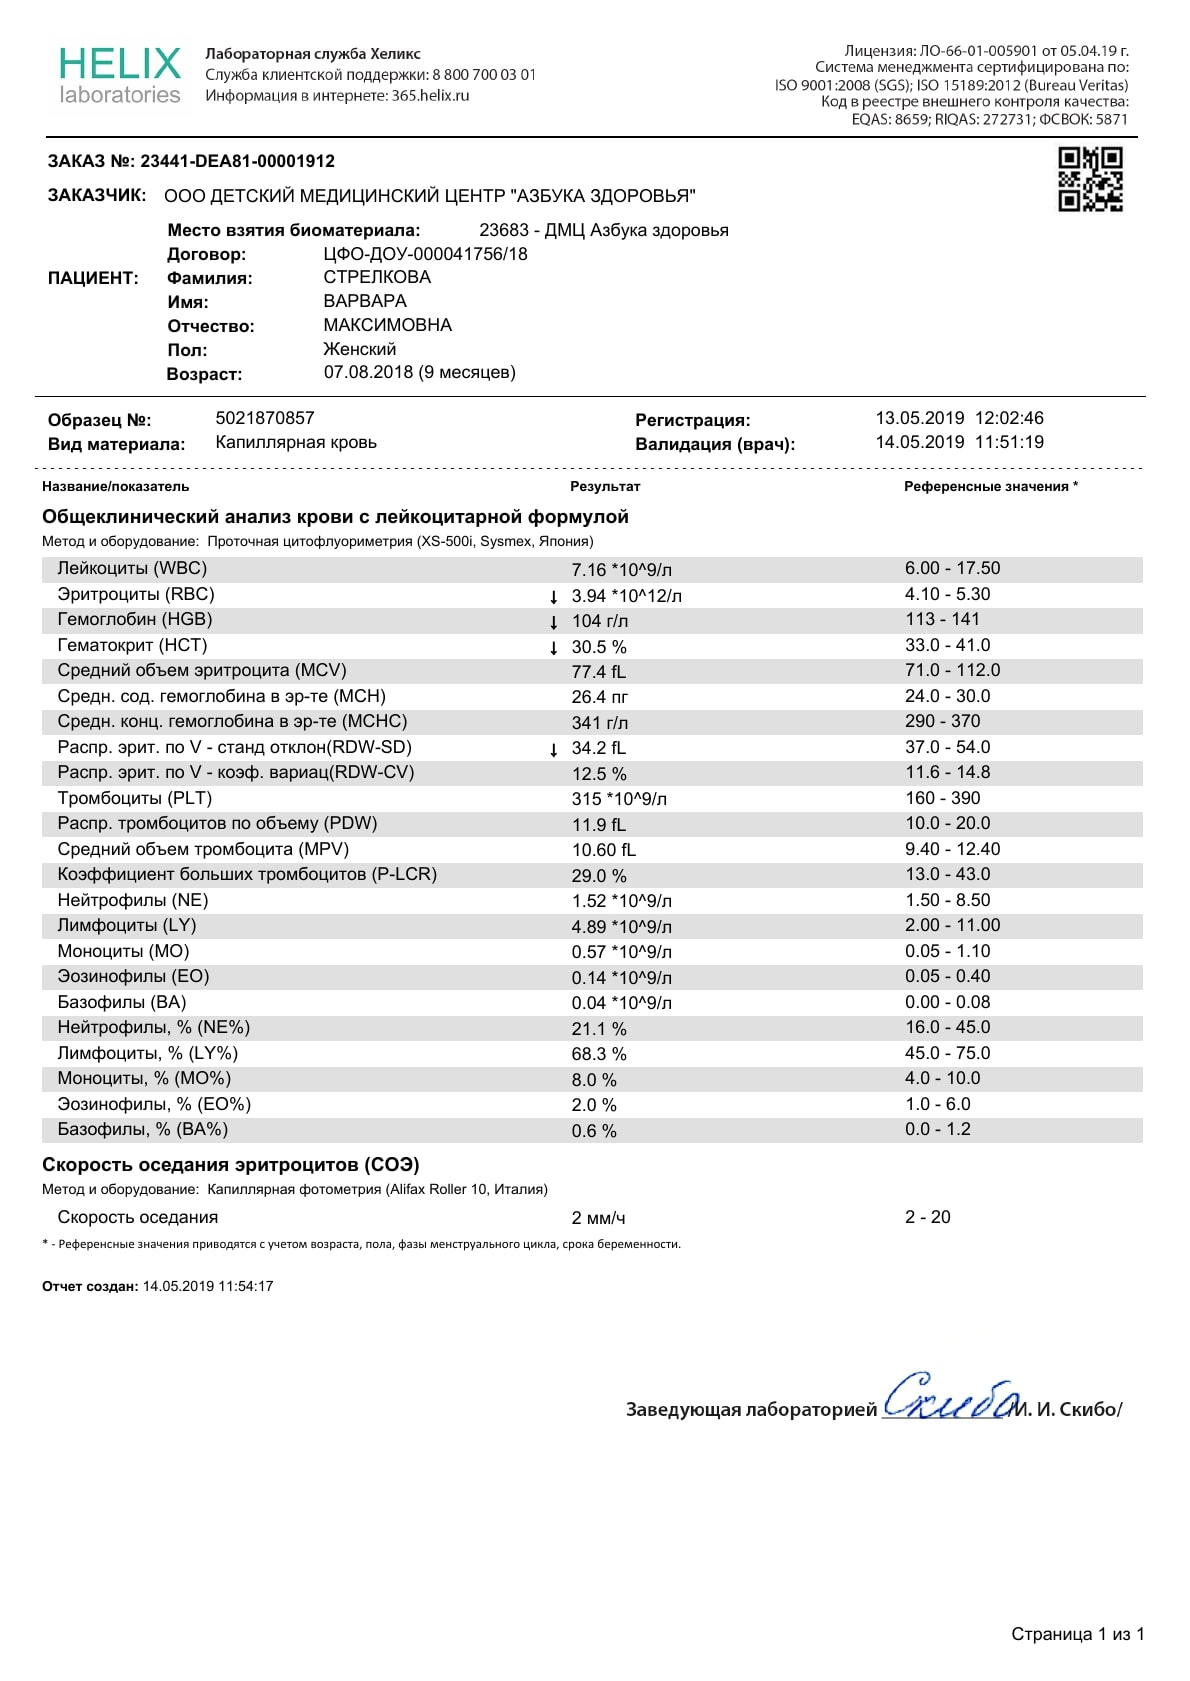column: (57, 559, 437, 1137), (571, 559, 683, 1137), (904, 559, 1001, 1137), (57, 1210, 218, 1225), (904, 479, 1069, 493), (42, 479, 189, 493), (571, 479, 641, 493), (571, 1210, 625, 1225), (904, 1210, 950, 1225)
